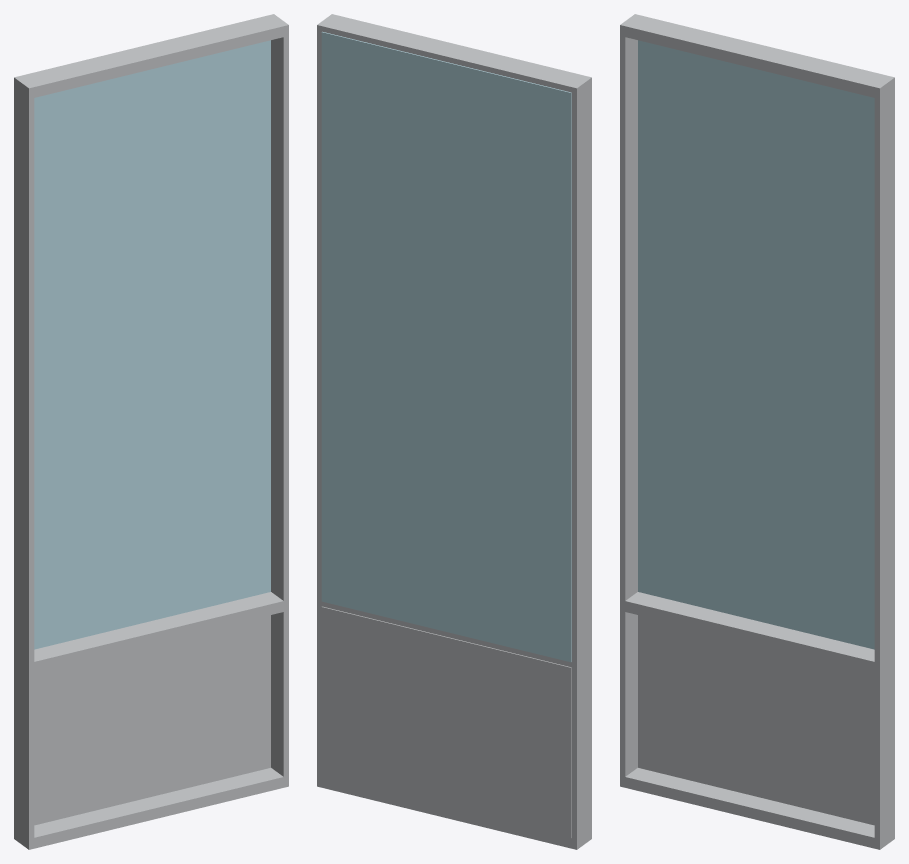
Rendered from opening.curtain_wall.h4200.glb.
The picture shows the model from 3 angles, left to right: view 1: azimuth 30°, elevation 25°; view 2: azimuth 150°, elevation 25°; view 3: azimuth 330°, elevation 25°; orthographic projection.
Visible parts, largest first — view 1: glazing__glass, frame__aluminium, glazing__aluminium; view 2: glazing__glass, glazing__aluminium, frame__aluminium; view 3: glazing__glass, frame__aluminium, glazing__aluminium.
Boxes of the visible parts, x1=… form: glazing__glass: x1=34, y1=40, x2=270, y2=649; frame__aluminium: x1=14, y1=14, x2=288, y2=849; glazing__aluminium: x1=34, y1=615, x2=270, y2=825; glazing__glass: x1=321, y1=31, x2=571, y2=662; glazing__aluminium: x1=321, y1=606, x2=571, y2=837; frame__aluminium: x1=317, y1=14, x2=591, y2=849; glazing__glass: x1=638, y1=40, x2=874, y2=649; frame__aluminium: x1=620, y1=14, x2=894, y2=849; glazing__aluminium: x1=638, y1=615, x2=874, y2=825.
Size of the model in its own units: 1.5 by 4.2 by 0.156.
